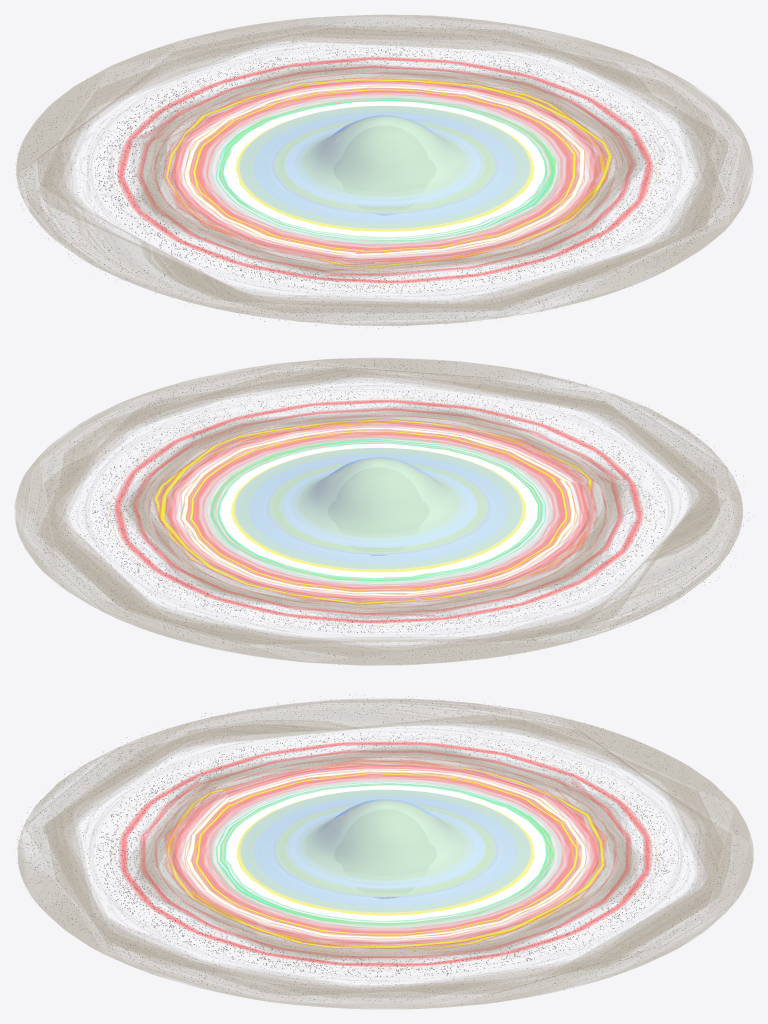
3 views of the same model, one above another, from view 1: azimuth 30°, elevation 25°; view 2: azimuth 150°, elevation 25°; view 3: azimuth 270°, elevation 25° (orthographic).
Visible parts, largest first — view 1: black hole_ring, black hole; view 2: black hole_ring, black hole; view 3: black hole_ring, black hole.
Part boxes in pixels (<box>): black hole_ring: <box>14,14,752,328</box>; black hole: <box>113,56,656,284</box>; black hole_ring: <box>15,358,753,665</box>; black hole: <box>110,398,646,625</box>; black hole_ring: <box>14,694,753,1008</box>; black hole: <box>114,739,656,968</box>.
Bounding box in the file's own units: 1200 × 169 × 1190.
Materials: 8 (5 with a texture image).
